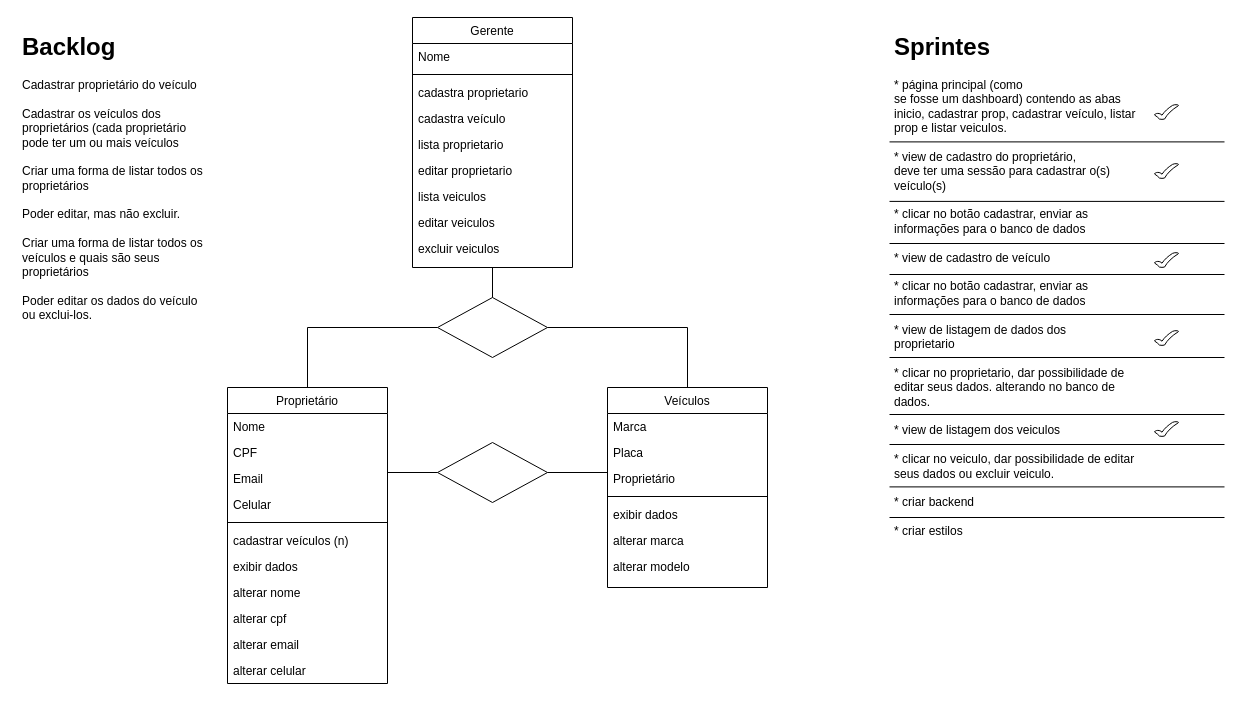
This 1243x704 diagram has some shape labels left out. Here are the shapes that lost their labels. From the top down, the centre of each, then its label:
At pixel 492 327: "gerencia".
At pixel 492 472: "possui".
